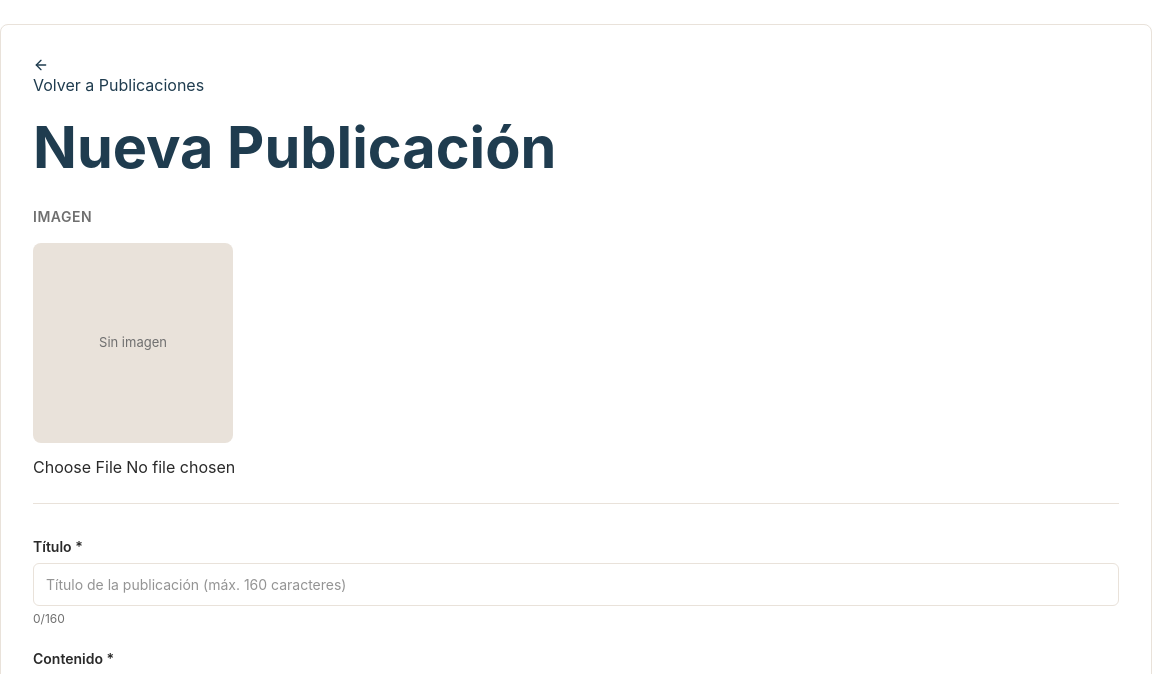
it: CreatePostForm › shows validation error when body is missing
The image size is (1152, 674).
Type "Mi Título" into the field labelled "Título *".
click(576, 585); type("Mi Título")  # box [33,563,1119,606]
(page scrolled)
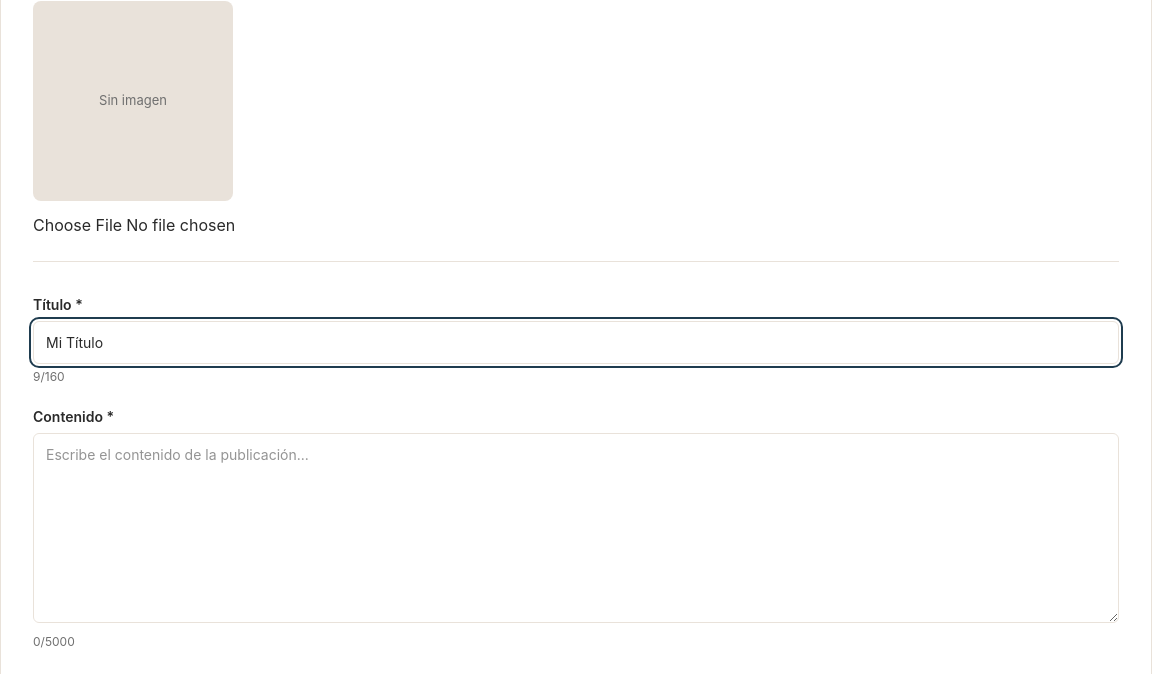
Submit the form named "crear publicación"
(page scrolled)
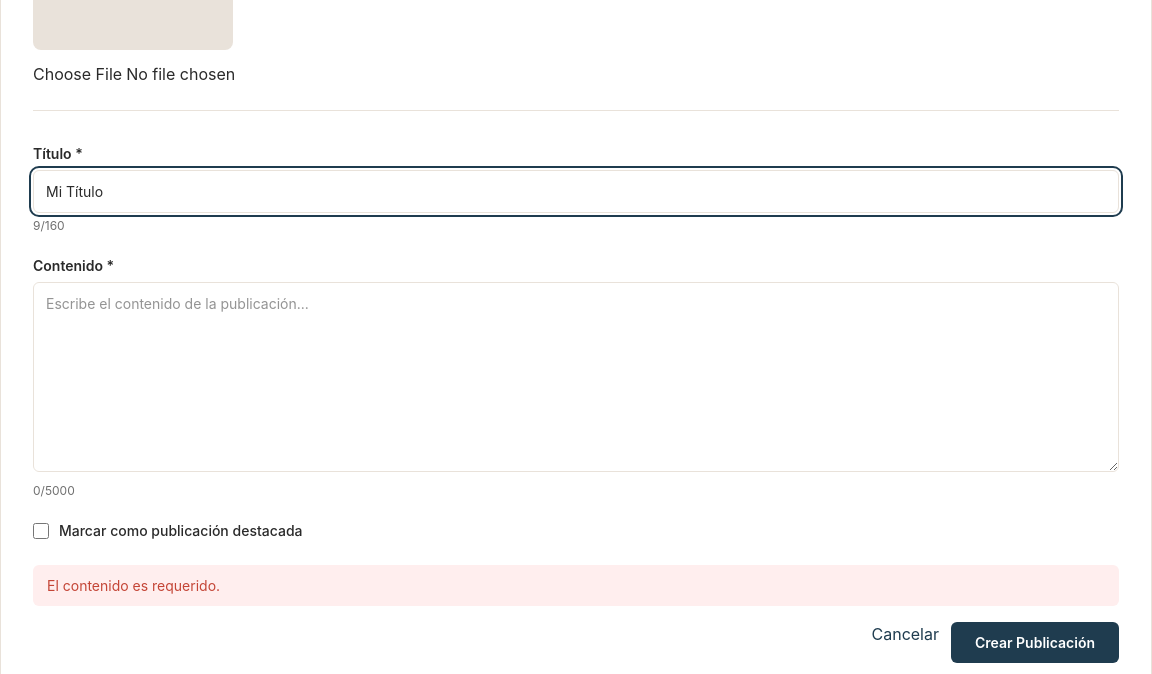
Result: the text "El contenido es requerido." is shown at [33,565,1119,606]
